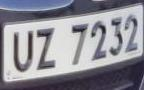2: (88, 16, 109, 64), (123, 12, 141, 56)
3: (109, 12, 125, 59)
7: (70, 19, 91, 69)
U: (11, 26, 36, 78)
Z: (35, 25, 58, 75)
